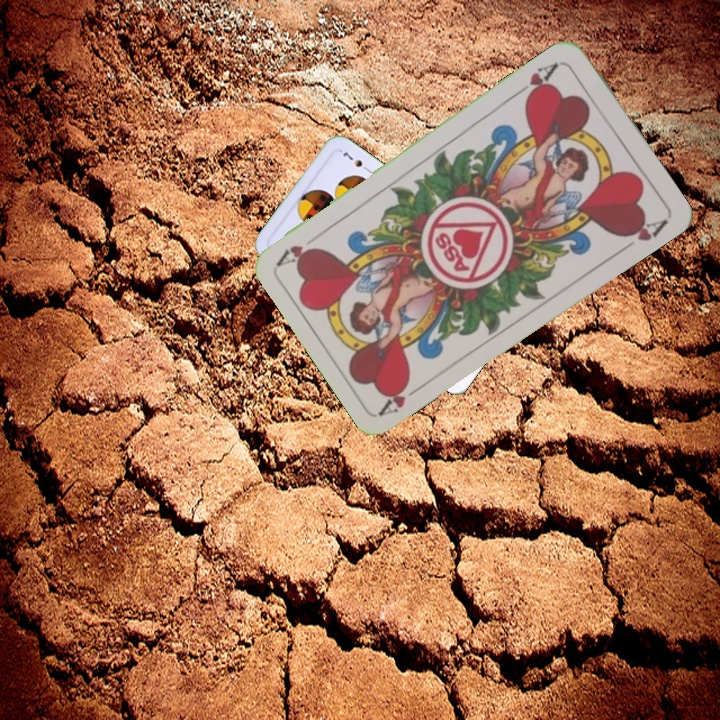HA: (512, 58, 563, 105), (376, 375, 429, 418)
